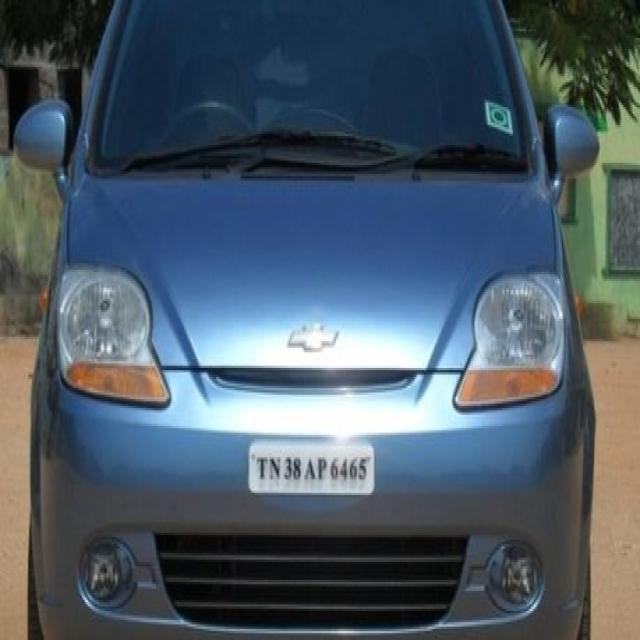number_plate: (249, 440, 378, 498)
